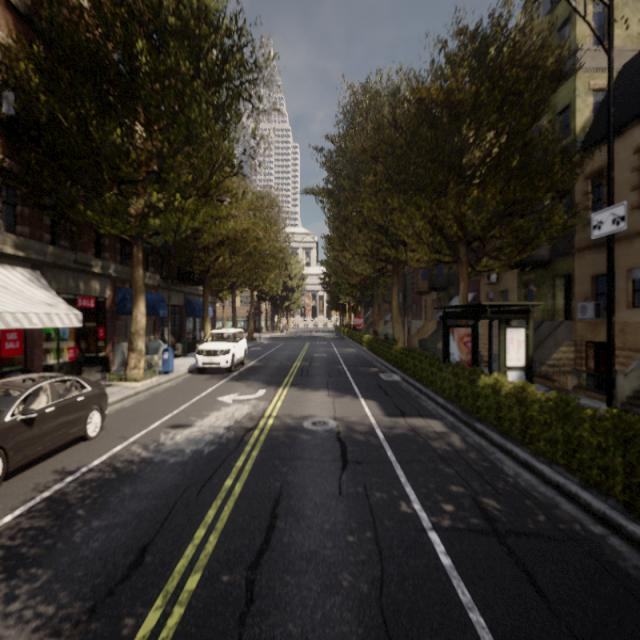stop sign: (348, 307, 368, 333)
